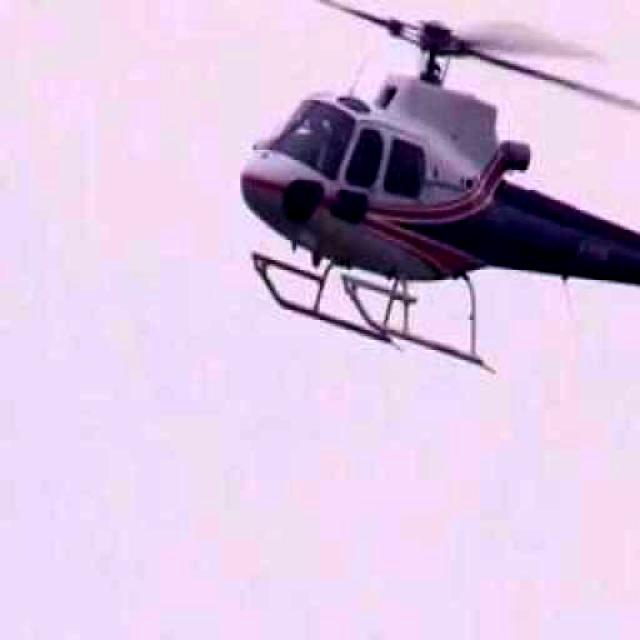drone: (121, 0, 640, 419)
